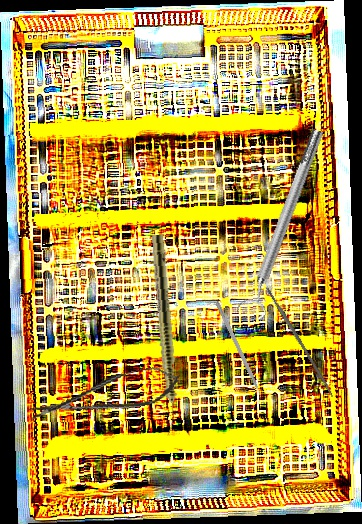Chopper: (209, 300, 266, 406)
Fixation Ring: (233, 125, 335, 322)
Handpiece: (148, 234, 182, 435)
Micro Scissor: (24, 362, 185, 428)
Scalpel Handle: (264, 285, 336, 398)
